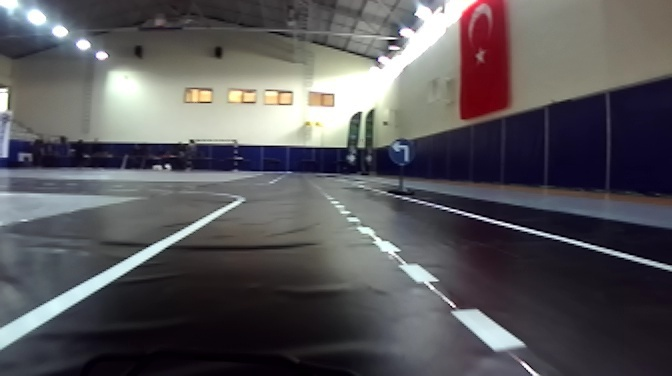sola_donus: (386, 137, 416, 166)
